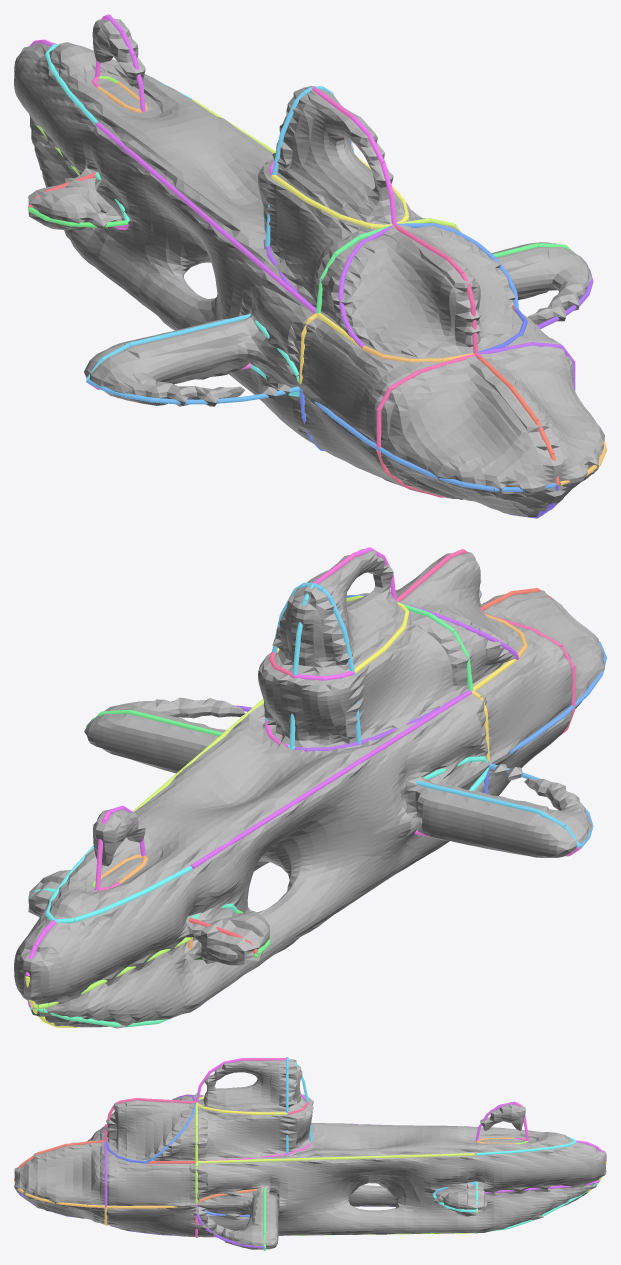
File: scaffolds3d_submarine.gltf
The picture shows the model from 3 angles, top to bottom: view 1: azimuth 30°, elevation 25°; view 2: azimuth 150°, elevation 25°; view 3: azimuth 270°, elevation 25°; orthographic projection. The views are drawn at different scales.
Size of the model in its own units: 0.4603 by 0.2586 by 0.8565.
